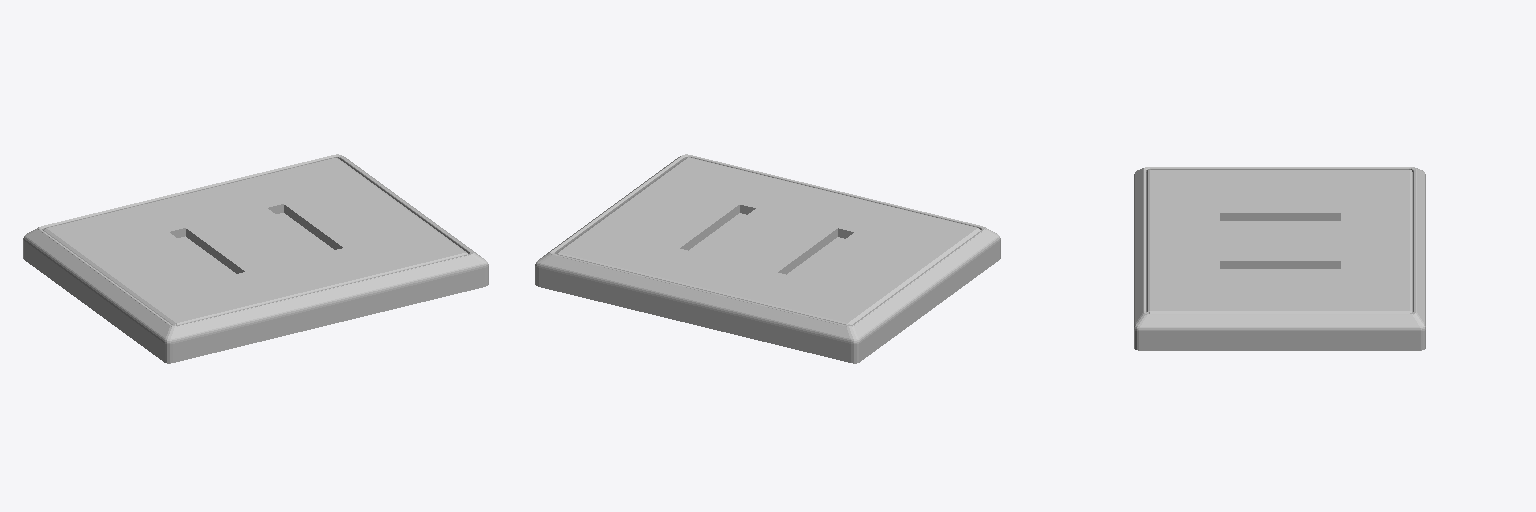
The model's file is table.obj.
3 renders of one model, left to right at view 1: azimuth 30°, elevation 25°; view 2: azimuth 150°, elevation 25°; view 3: azimuth 270°, elevation 25°, orthographic.
Visible parts, largest first — view 1: Cube.001; view 2: Cube.001; view 3: Cube.001.
Boxes of the visible parts, x1,y1,x2,y2 form: Cube.001: [23, 154, 488, 363]; Cube.001: [535, 154, 1000, 363]; Cube.001: [1134, 167, 1425, 350].
Size of the model in its own units: 117 by 10.88 by 91.72.